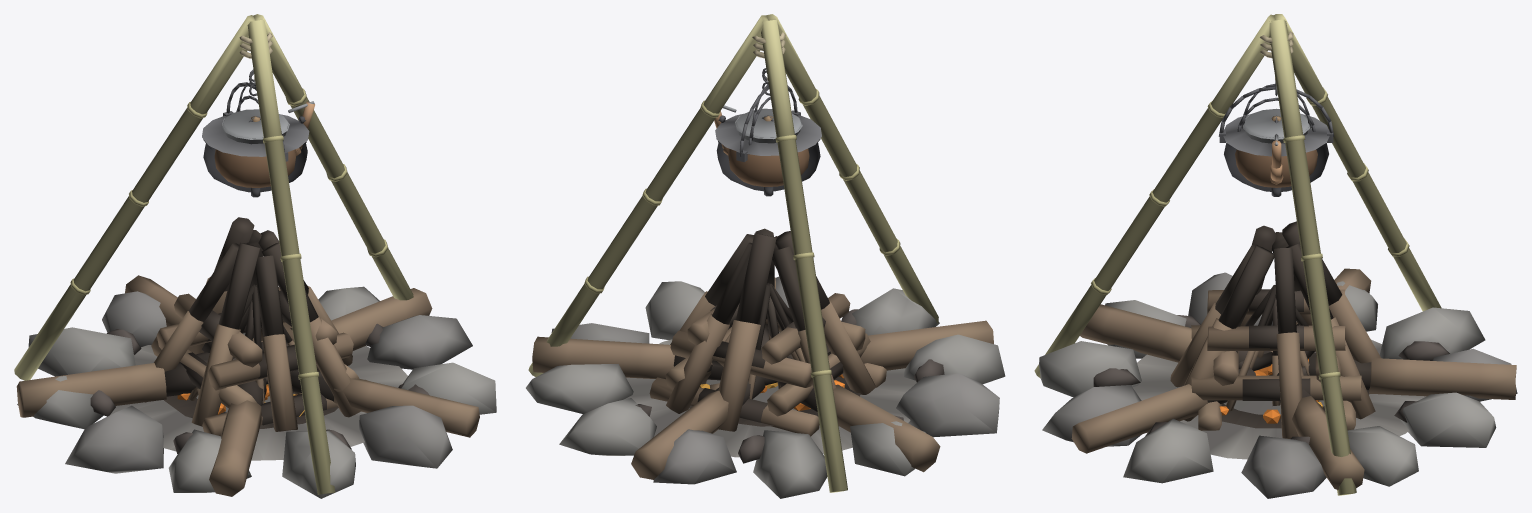
File: fire.glb
The picture shows the model from 3 angles, left to right: view 1: azimuth 30°, elevation 25°; view 2: azimuth 150°, elevation 25°; view 3: azimuth 270°, elevation 25°; orthographic projection.
Parts seen in each view (by area): view 1: Ring, Tripod, Fire_star, Fire_teepee, Fire_cabin, Kettle_pot, Kettle_classic, Kettle_billy; view 2: Ring, Tripod, Fire_teepee, Fire_star, Fire_cabin, Kettle_pot, Kettle_classic, Kettle_billy; view 3: Ring, Tripod, Fire_star, Fire_teepee, Fire_cabin, Kettle_pot, Kettle_classic, Kettle_billy.
Boxes of the visible parts, left/top/right/bottom form: Ring: left=17, top=286, right=496, bottom=498; Tripod: left=14, top=14, right=413, bottom=494; Fire_star: left=16, top=275, right=479, bottom=496; Fire_teepee: left=145, top=217, right=361, bottom=431; Fire_cabin: left=151, top=287, right=367, bottom=436; Kettle_pot: left=202, top=72, right=309, bottom=197; Kettle_classic: left=214, top=76, right=314, bottom=187; Kettle_billy: left=221, top=69, right=314, bottom=144; Ring: left=526, top=276, right=1005, bottom=498; Tripod: left=528, top=14, right=938, bottom=492; Fire_teepee: left=666, top=228, right=875, bottom=431; Fire_star: left=532, top=320, right=993, bottom=479; Fire_cabin: left=649, top=293, right=886, bottom=436; Kettle_pot: left=715, top=70, right=821, bottom=196; Kettle_classic: left=714, top=76, right=809, bottom=186; Kettle_billy: left=722, top=68, right=802, bottom=143; Ring: left=1039, top=272, right=1517, bottom=498; Tripod: left=1034, top=14, right=1441, bottom=495; Fire_star: left=1071, top=268, right=1516, bottom=489; Fire_teepee: left=1170, top=221, right=1380, bottom=438; Fire_cabin: left=1191, top=289, right=1361, bottom=430; Kettle_pot: left=1218, top=79, right=1334, bottom=196; Kettle_classic: left=1235, top=77, right=1317, bottom=187; Kettle_billy: left=1241, top=83, right=1311, bottom=145.
Size of the model in its own units: 1.53 by 1.38 by 1.51.
